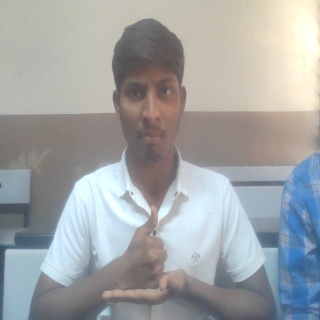Face: (109, 17, 188, 172)
Help: (99, 200, 189, 309)
